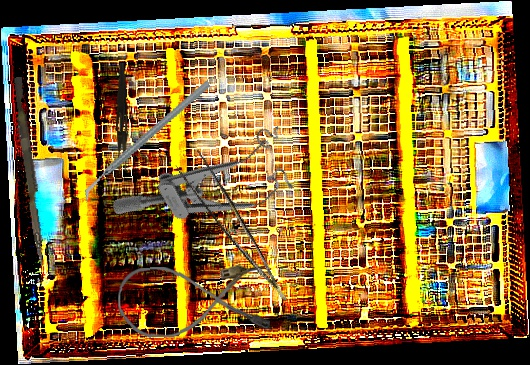Cannula: (116, 263, 271, 339)
Chopper: (61, 80, 233, 203)
Dressing Forceps: (114, 62, 130, 172)
Pusher: (8, 76, 52, 267)
Speculum: (109, 110, 310, 272)
Tissue Forceps: (171, 142, 288, 316)
